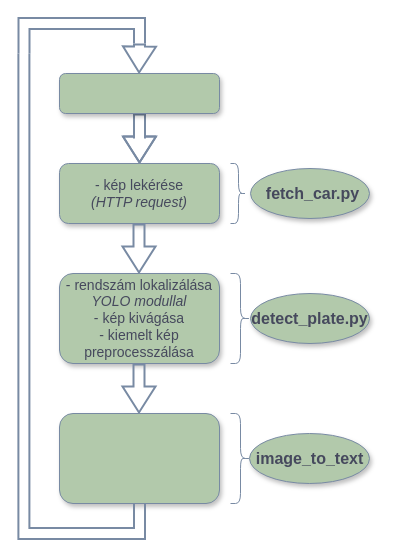
The diagram is 393 pixels wide and 557 high, and some of its shapes have lost their labels. Here are the shapes that lost their labels. From the top down, the centre of each, then its label:
At point (140, 94): "main.py".
At point (140, 459): "- szöveg felismerése Tesseract modullal - szöveg korrekciója - REGEX".
